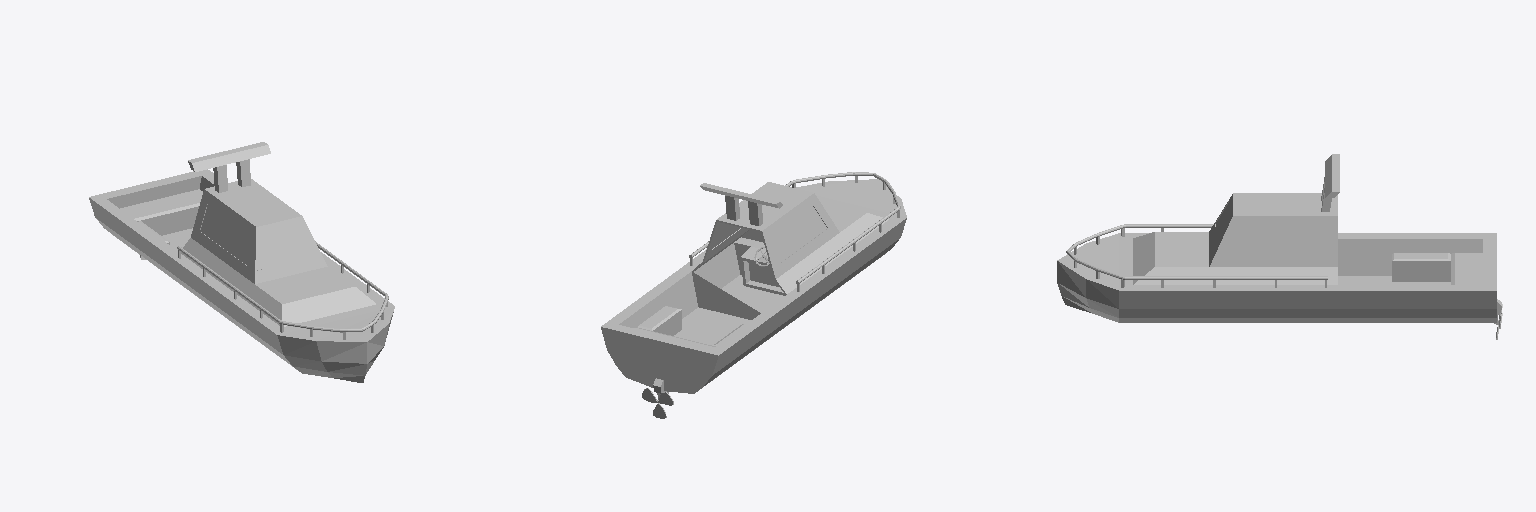
Rendered from Barco_scout.obj.
The picture shows the model from 3 angles: view 1: azimuth 30°, elevation 25°; view 2: azimuth 150°, elevation 25°; view 3: azimuth 270°, elevation 25°; orthographic projection.
Parts seen in each view (by area): view 1: Scout_Boat_Cube.002; view 2: Scout_Boat_Cube.002; view 3: Scout_Boat_Cube.002.
Part boxes in pixels (x1,y1,x2,y2): Scout_Boat_Cube.002: (89, 142, 394, 382); Scout_Boat_Cube.002: (601, 172, 906, 418); Scout_Boat_Cube.002: (1057, 154, 1502, 339).
Size of the model in its own units: 2.23 by 2.99 by 7.28.